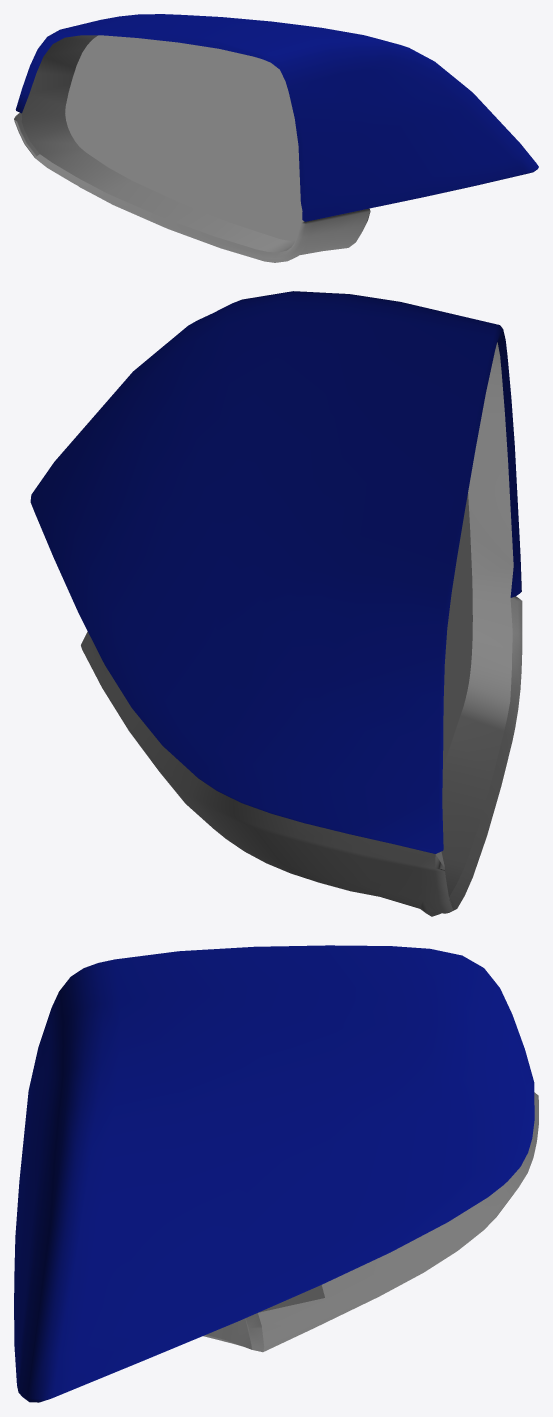
File: Door_LF_Mirror.obj
3 renders of one model, top to bottom at view 1: azimuth 30°, elevation 25°; view 2: azimuth 150°, elevation 25°; view 3: azimuth 270°, elevation 25°, orthographic. The views are drawn at different scales.
Parts seen in each view (by area): view 1: Door_LF_Mirror; view 2: Door_LF_Mirror; view 3: Door_LF_Mirror.
Boxes of the visible parts, x1=… form: Door_LF_Mirror: x1=14, y1=14, x2=538, y2=262; Door_LF_Mirror: x1=30, y1=291, x2=522, y2=916; Door_LF_Mirror: x1=14, y1=945, x2=538, y2=1402.
Size of the model in its own units: 0.2555 by 0.1413 by 0.2042.
